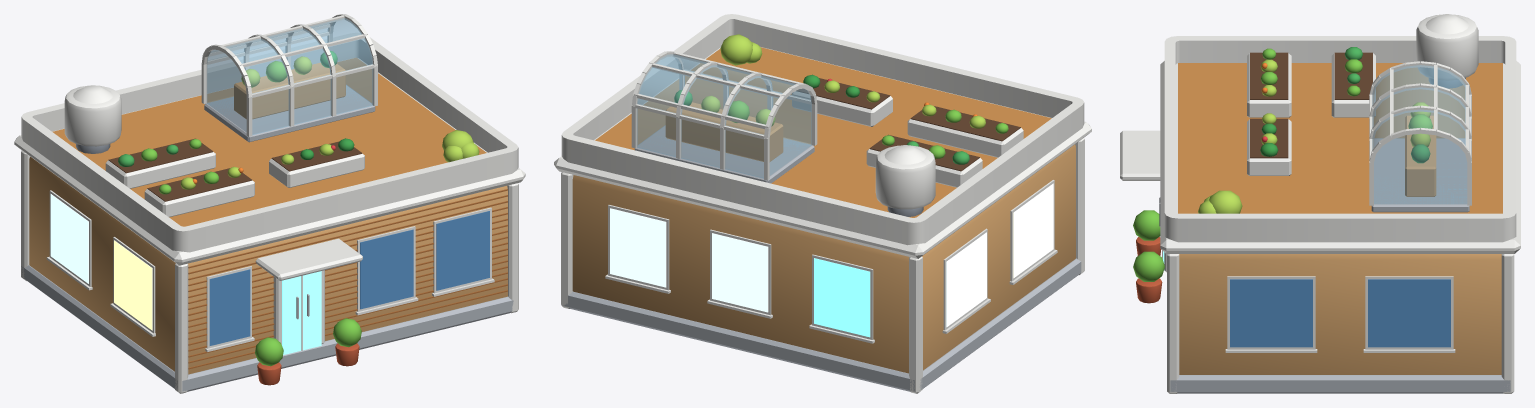
The model's file is casa_madeira_horta.glb.
3 views of the same model, side by side, from view 1: azimuth 30°, elevation 25°; view 2: azimuth 150°, elevation 25°; view 3: azimuth 270°, elevation 25° (orthographic). The views are drawn at different scales.
Parts seen in each view (by area): view 1: casa_madeira_horta; view 2: casa_madeira_horta; view 3: casa_madeira_horta.
Part boxes in pixels (<box>): casa_madeira_horta: <box>14,14,525,393</box>; casa_madeira_horta: <box>554,14,1091,393</box>; casa_madeira_horta: <box>1120,14,1520,393</box>.
Size of the model in its own units: 9.9 by 5.93 by 9.
6 materials, 1 textured.
